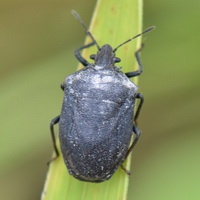insect: (50, 11, 154, 181)
